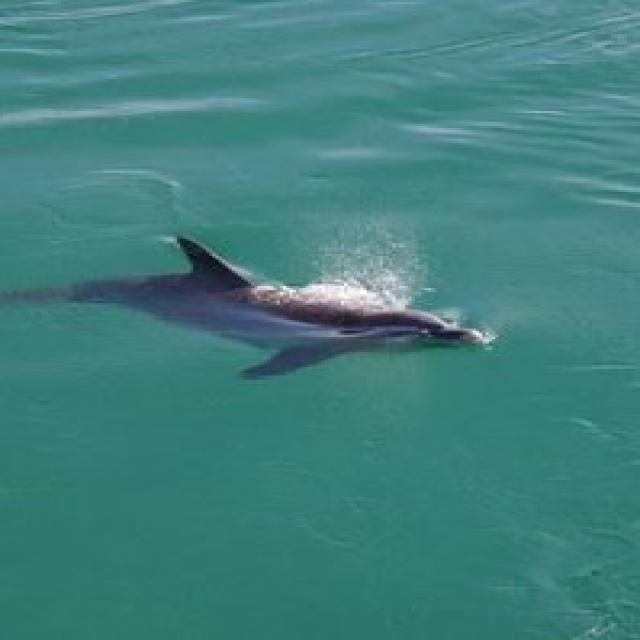Dolphin: (8, 251, 505, 384)
